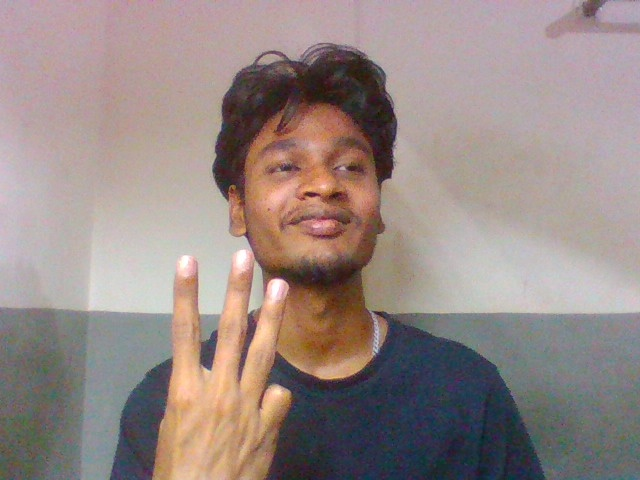W: (162, 240, 301, 480)
